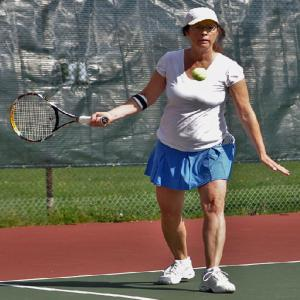TennisBall: (193, 68, 207, 82)
